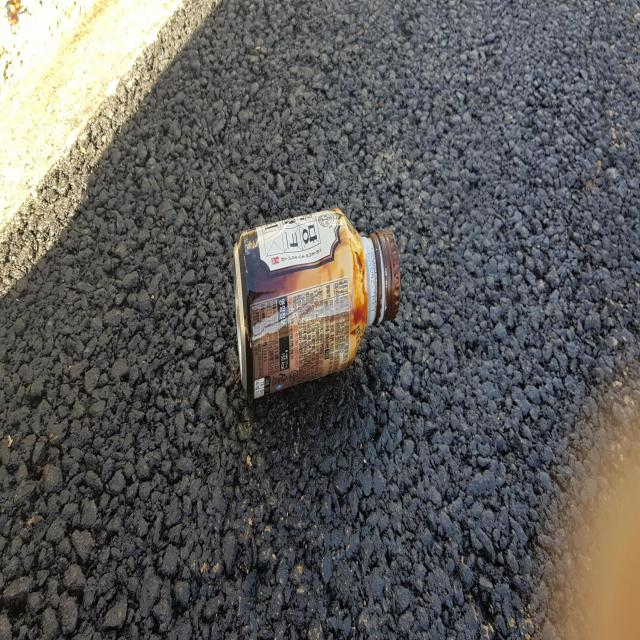can: (233, 206, 401, 401)
